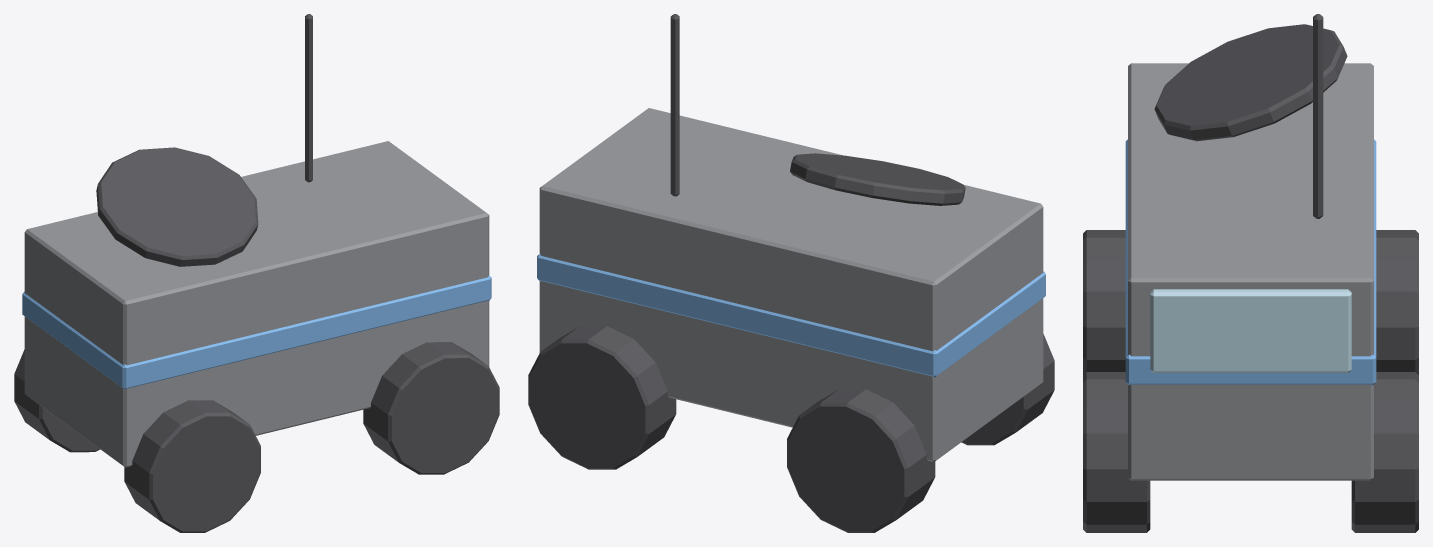
The model's file is ghost_van.glb.
3 renders of one model, left to right at view 1: azimuth 30°, elevation 25°; view 2: azimuth 150°, elevation 25°; view 3: azimuth 270°, elevation 25°, orthographic. The views are drawn at different scales.
Parts seen in each view (by area): view 1: ghost_van; view 2: ghost_van; view 3: ghost_van.
Part boxes in pixels (box(x1,y1,x2,y2)): ghost_van: box(14, 14, 499, 532); ghost_van: box(528, 14, 1054, 532); ghost_van: box(1083, 14, 1418, 532).
Bounding box in the file's own units: 2.35 × 2.4 × 1.5.
